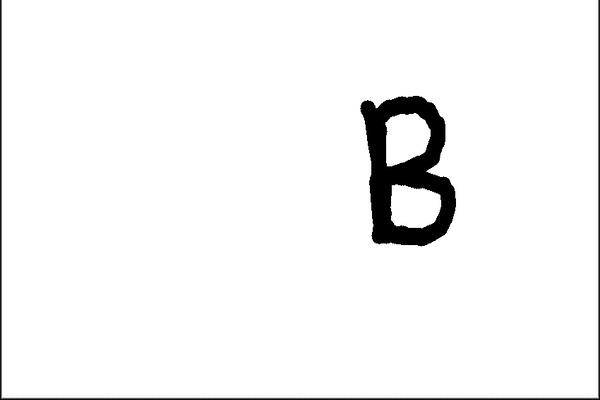B: (351, 88, 462, 248)
